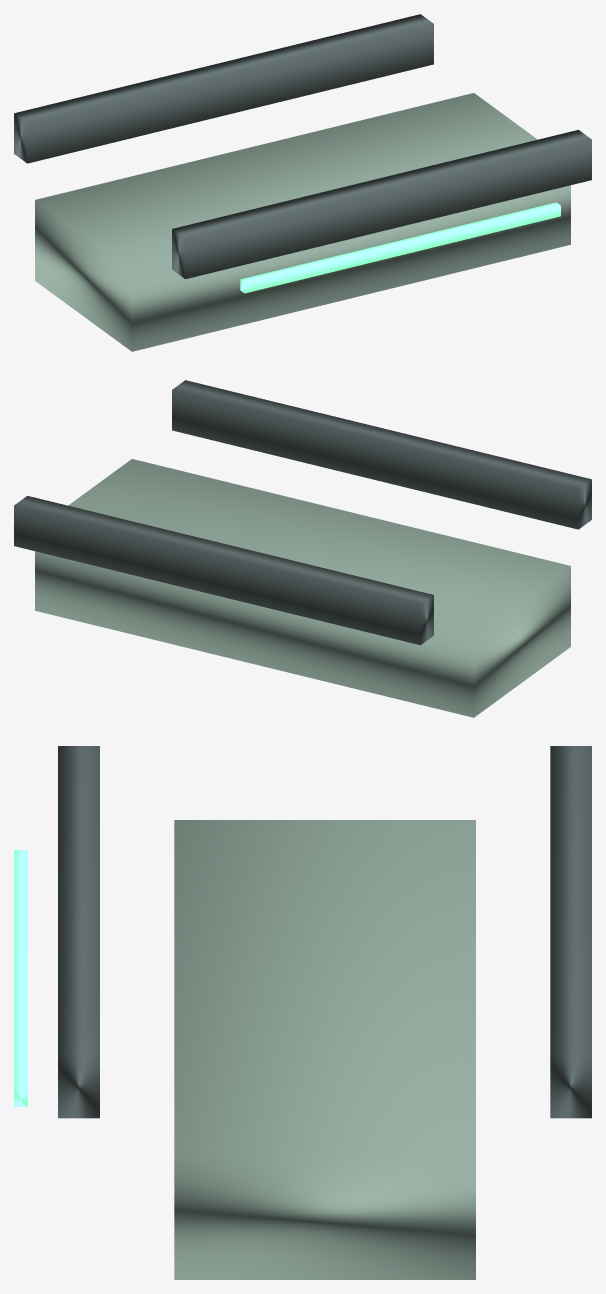
The model's file is spin-habitat-ring-segment-lod2.glb.
3 renders of one model, top to bottom at view 1: azimuth 30°, elevation 25°; view 2: azimuth 150°, elevation 25°; view 3: azimuth 270°, elevation 25°, orthographic. The views are drawn at different scales.
Visible parts, largest first — view 1: spin-habitat-ring-segment-deck, spin-habitat-ring-segment-inner-rail, spin-habitat-ring-segment-outer-rail, spin-habitat-ring-segment-wayfinding; view 2: spin-habitat-ring-segment-deck, spin-habitat-ring-segment-outer-rail, spin-habitat-ring-segment-inner-rail; view 3: spin-habitat-ring-segment-deck, spin-habitat-ring-segment-inner-rail, spin-habitat-ring-segment-outer-rail, spin-habitat-ring-segment-wayfinding.
Boxes of the visible parts, left/top/right/bottom form: spin-habitat-ring-segment-deck: left=35, top=93, right=570, bottom=351; spin-habitat-ring-segment-inner-rail: left=14, top=14, right=433, bottom=163; spin-habitat-ring-segment-outer-rail: left=172, top=130, right=591, bottom=279; spin-habitat-ring-segment-wayfinding: left=240, top=202, right=560, bottom=293; spin-habitat-ring-segment-deck: left=35, top=459, right=570, bottom=717; spin-habitat-ring-segment-outer-rail: left=172, top=380, right=591, bottom=529; spin-habitat-ring-segment-inner-rail: left=14, top=496, right=433, bottom=645; spin-habitat-ring-segment-deck: left=174, top=820, right=475, bottom=1279; spin-habitat-ring-segment-inner-rail: left=550, top=746, right=591, bottom=1118; spin-habitat-ring-segment-outer-rail: left=58, top=746, right=99, bottom=1118; spin-habitat-ring-segment-wayfinding: left=14, top=850, right=27, bottom=1106.
Bounding box in the file's own units: 3.4 × 1.01 × 2.49.
